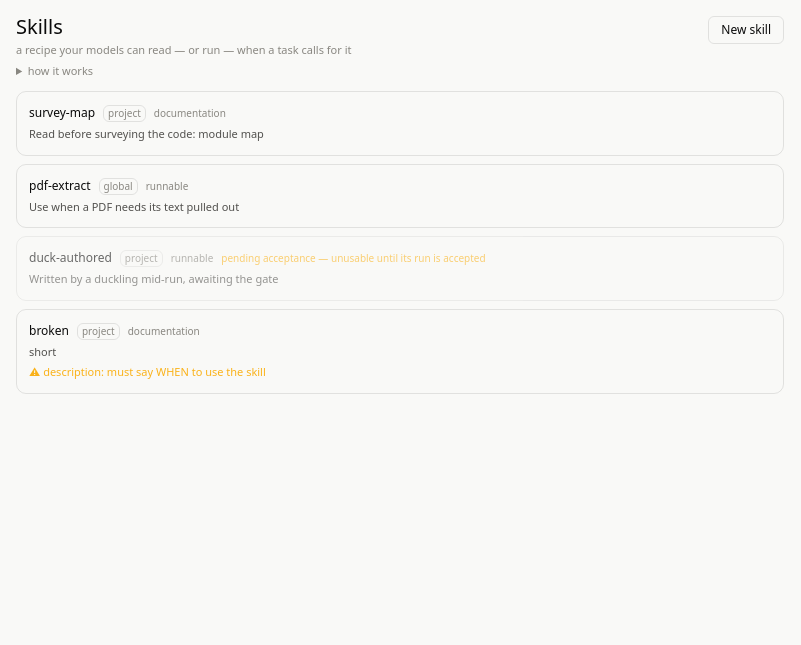
Test: Skills view › runs a runnable skill with its args and shows exit code and output
Click the button with test id "skill-open-pdf-extract".
click(60, 186)  # box [29,176,90,194]
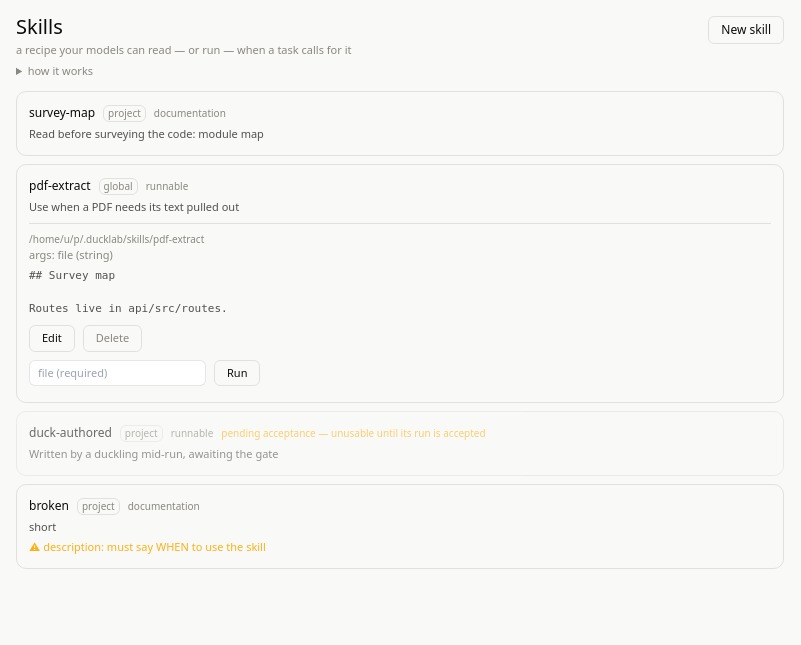
Now the element with test id "skill-detail" is shown, box [29,223,771,390]
Type "a.pdf" into the field with placeholder "file (required)".
click(118, 373); type("a.pdf")  # box [29,360,206,386]
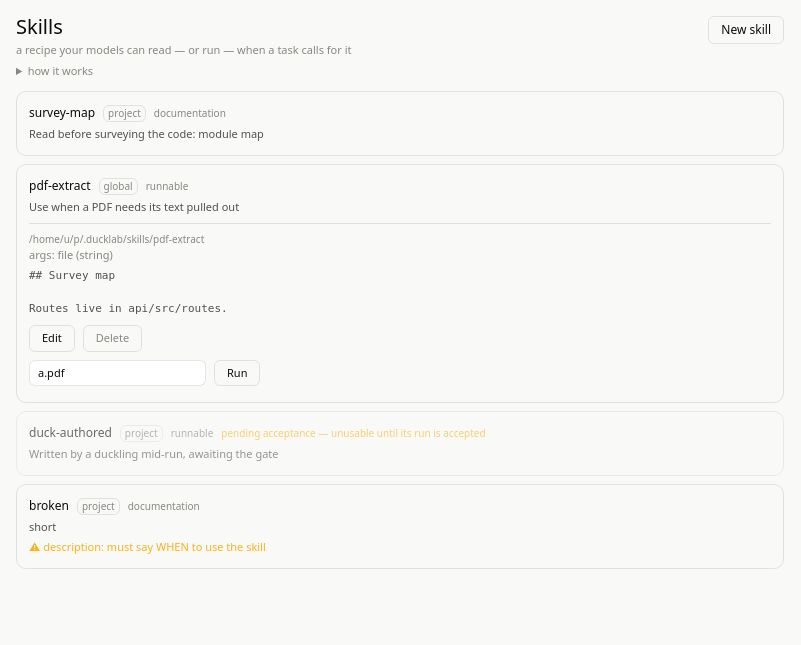
Click the button with test id "skill-run".
click(237, 373)  # box [214,360,260,386]
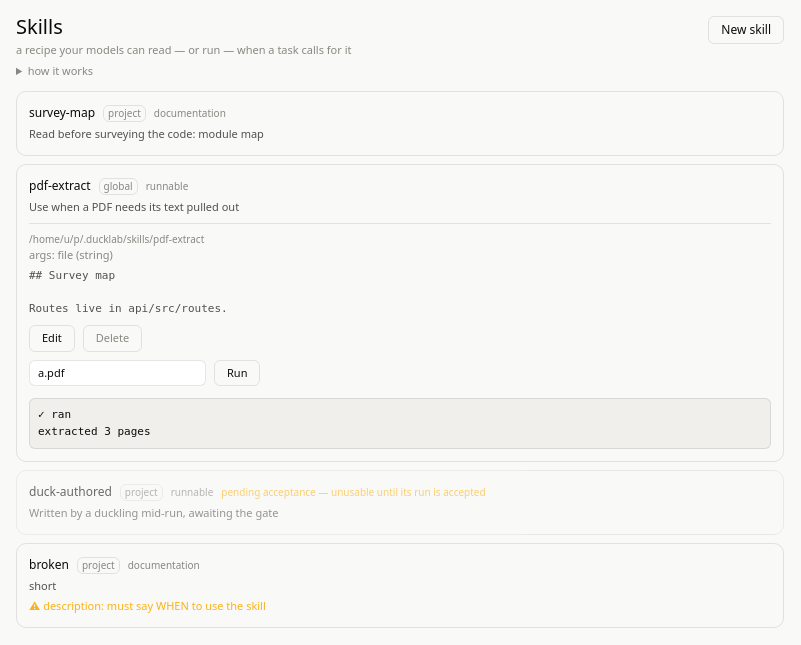
Now the text with test id "skill-run-output" shows "✓ ran", box [38,408,151,438]
Now the text with test id "skill-run-output" shows "extracted 3 pages", box [38,408,151,438]
